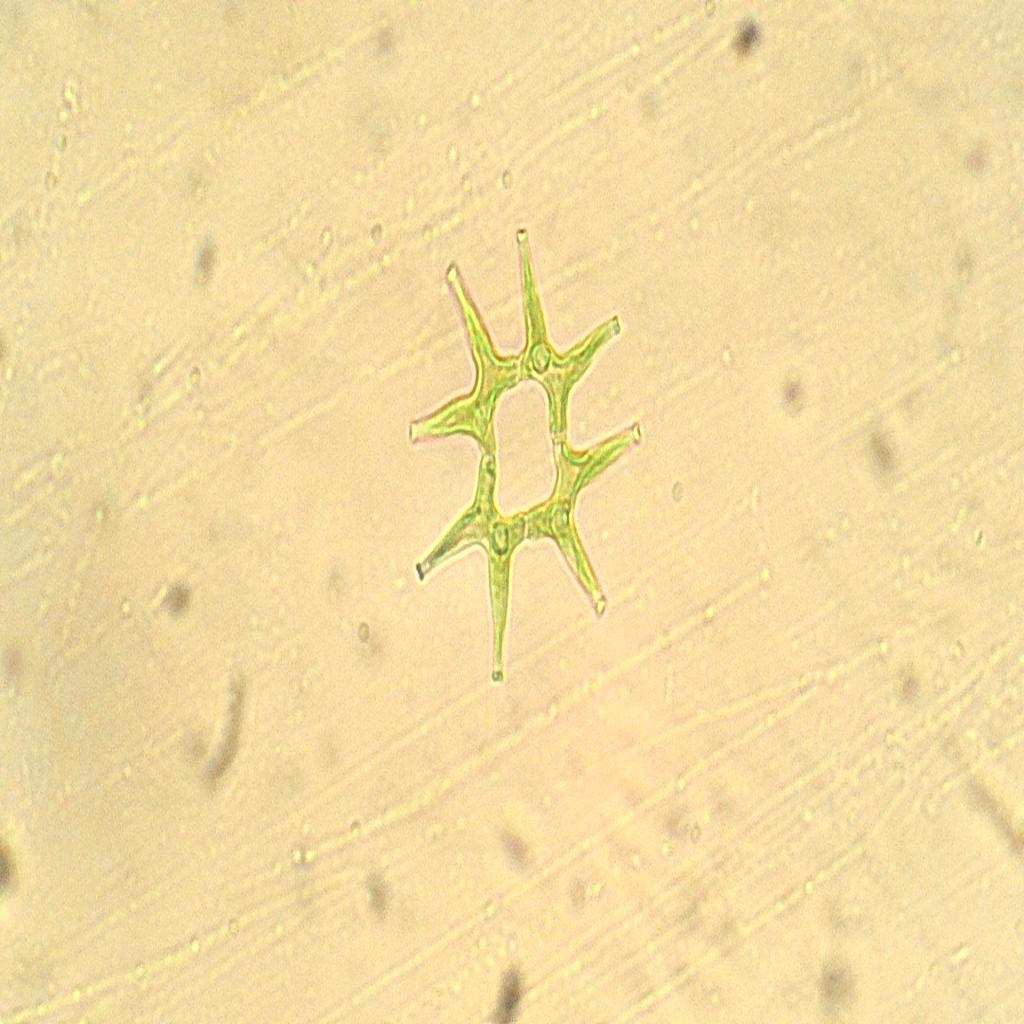Pediastrum_CO: (401, 204, 656, 702)
